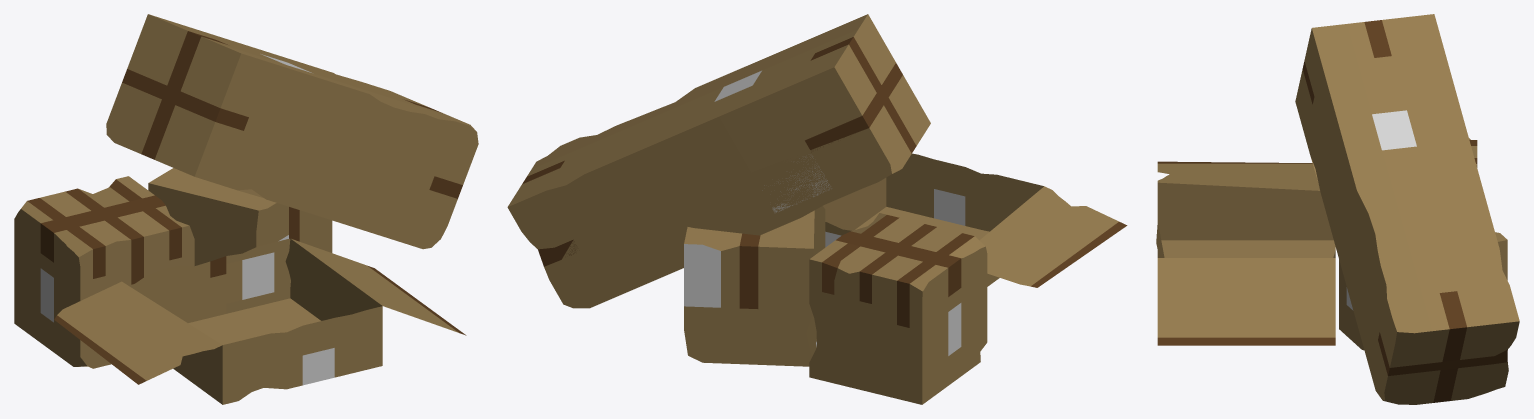
Rendered from CardboardBoxes1Coloured.fbx.
3 renders of one model, left to right at view 1: azimuth 30°, elevation 25°; view 2: azimuth 150°, elevation 25°; view 3: azimuth 270°, elevation 25°, orthographic. The views are drawn at different scales.
Visible parts, largest first — view 1: Cube.005; view 2: Cube.005; view 3: Cube.005.
Part boxes in pixels (left/top/right/bottom): Cube.005: left=14, top=14, right=478, bottom=404; Cube.005: left=507, top=14, right=1127, bottom=404; Cube.005: left=1156, top=14, right=1519, bottom=404.
Size of the model in its own units: 144 by 88.53 by 102.
